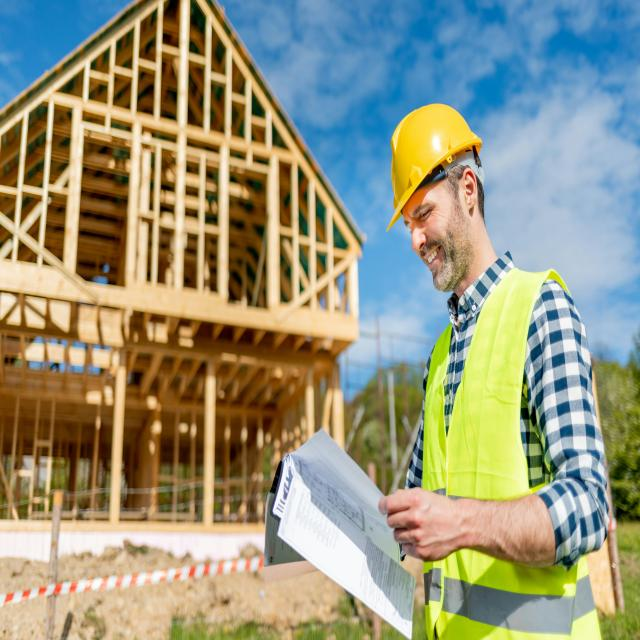person: (368, 91, 609, 640)
safety_helmet: (427, 298, 600, 640), (377, 103, 490, 164)
